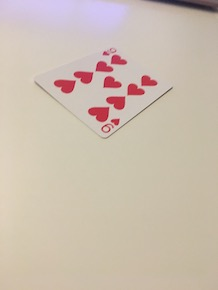NineOfHearts: (33, 41, 174, 138)
